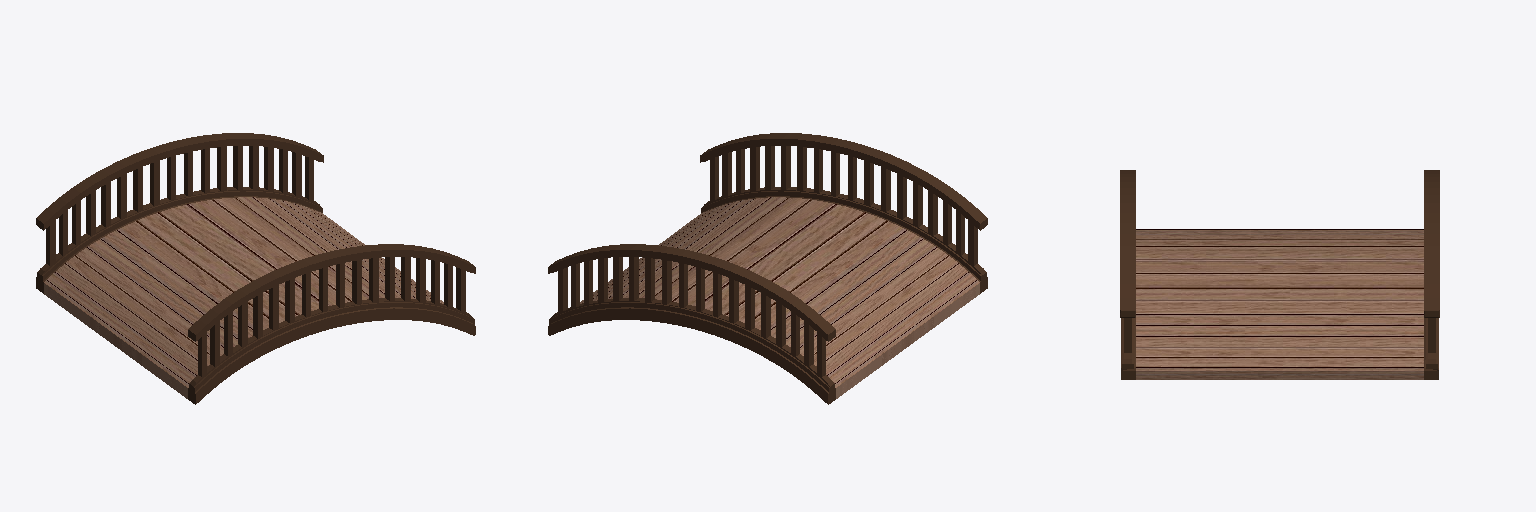
The picture shows the model from 3 angles: view 1: azimuth 30°, elevation 25°; view 2: azimuth 150°, elevation 25°; view 3: azimuth 270°, elevation 25°; orthographic projection.
Parts seen in each view (by area): view 1: Cube.518; view 2: Cube.518; view 3: Cube.518.
Part boxes in pixels (x1,y1,x2,y2): Cube.518: (36, 133, 475, 404); Cube.518: (548, 133, 987, 404); Cube.518: (1120, 170, 1439, 379).
Size of the model in its own units: 1.75 by 0.6768 by 1.73.
2 materials, 2 textured.